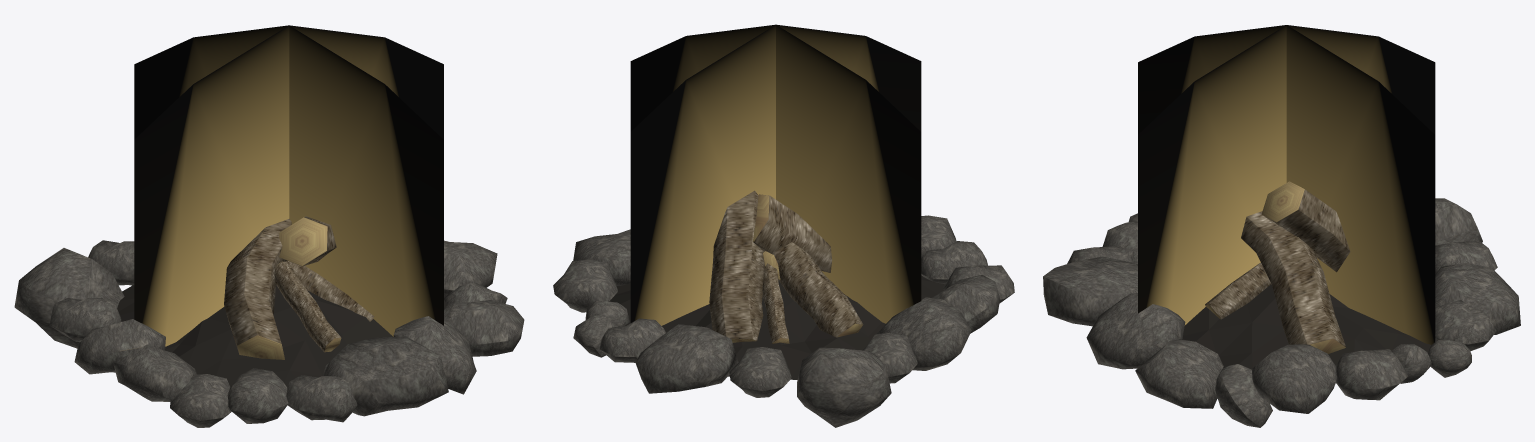
File: camping.glb
3 views of the same model, side by side, from view 1: azimuth 30°, elevation 25°; view 2: azimuth 150°, elevation 25°; view 3: azimuth 270°, elevation 25° (orthographic). The views are drawn at different scales.
Visible parts, largest first — view 1: CampfireFlames, Campfire; view 2: CampfireFlames, Campfire; view 3: CampfireFlames, Campfire.
Boxes of the visible parts, box(x1,y1,x2,y2) form: CampfireFlames: box(134, 25, 443, 346); Campfire: box(14, 216, 524, 427); CampfireFlames: box(630, 24, 921, 325); Campfire: box(553, 190, 1014, 427); CampfireFlames: box(1138, 25, 1435, 344); Campfire: box(1043, 181, 1520, 427).
Size of the model in its own units: 0.9369 by 0.7189 by 0.9695.
Materials: 5 (3 with a texture image).
